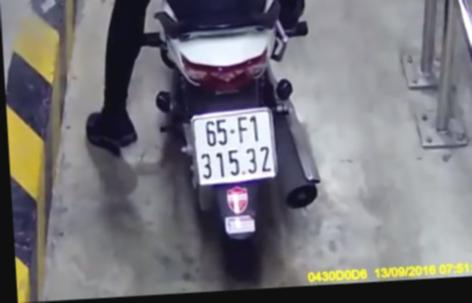License_Plate: (185, 104, 284, 188)
